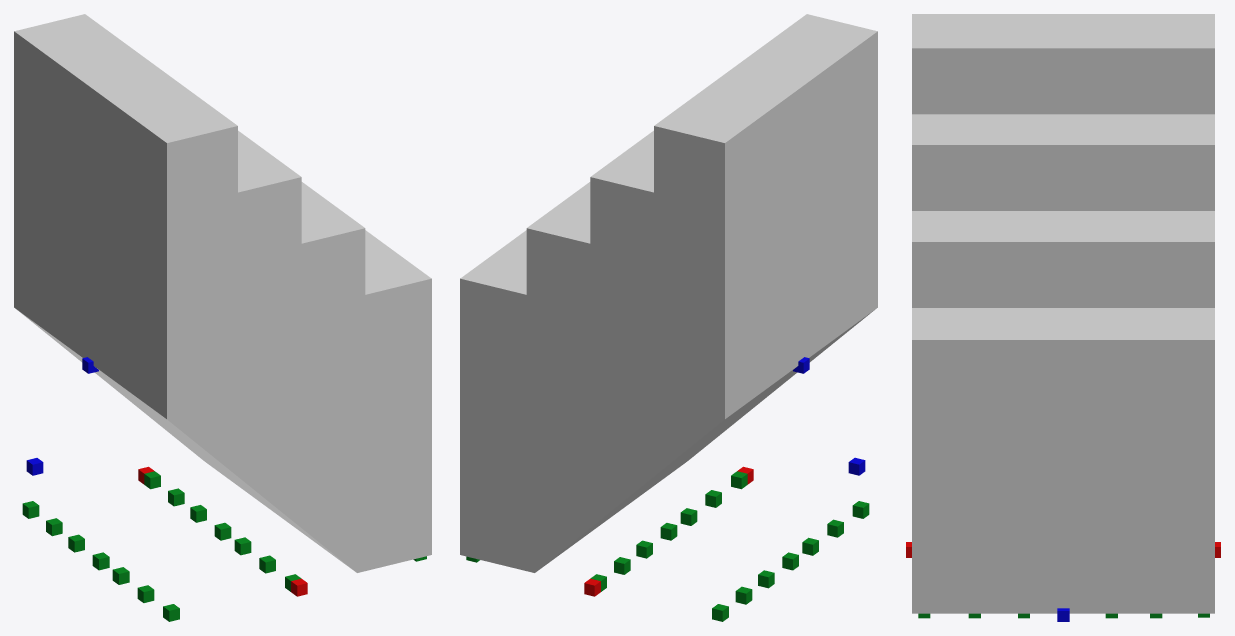
Rendered from 1x1stair.glb.
3 renders of one model, left to right at view 1: azimuth 30°, elevation 25°; view 2: azimuth 150°, elevation 25°; view 3: azimuth 270°, elevation 25°, orthographic.
Visible parts, largest first — view 1: cube; view 2: cube; view 3: cube.
Boxes of the visible parts, x1,y1,x2,y2 form: cube: (14, 14, 431, 572); cube: (460, 14, 877, 572); cube: (912, 14, 1214, 613).
Size of the model in its own units: 6.25 by 8.7 by 5.2.
